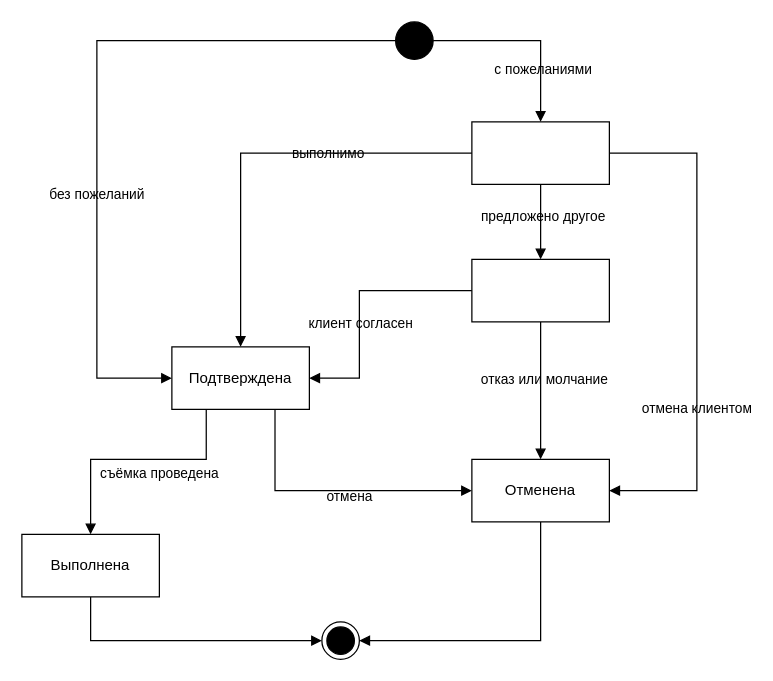
Some shapes in this 773 by 681 pixel diagram are drawn without their labels. The centre of each missing label's shape, as x and y in pixels:
Ожидает ответа клиента: point 540,290
Ожидает решения: point 540,152
